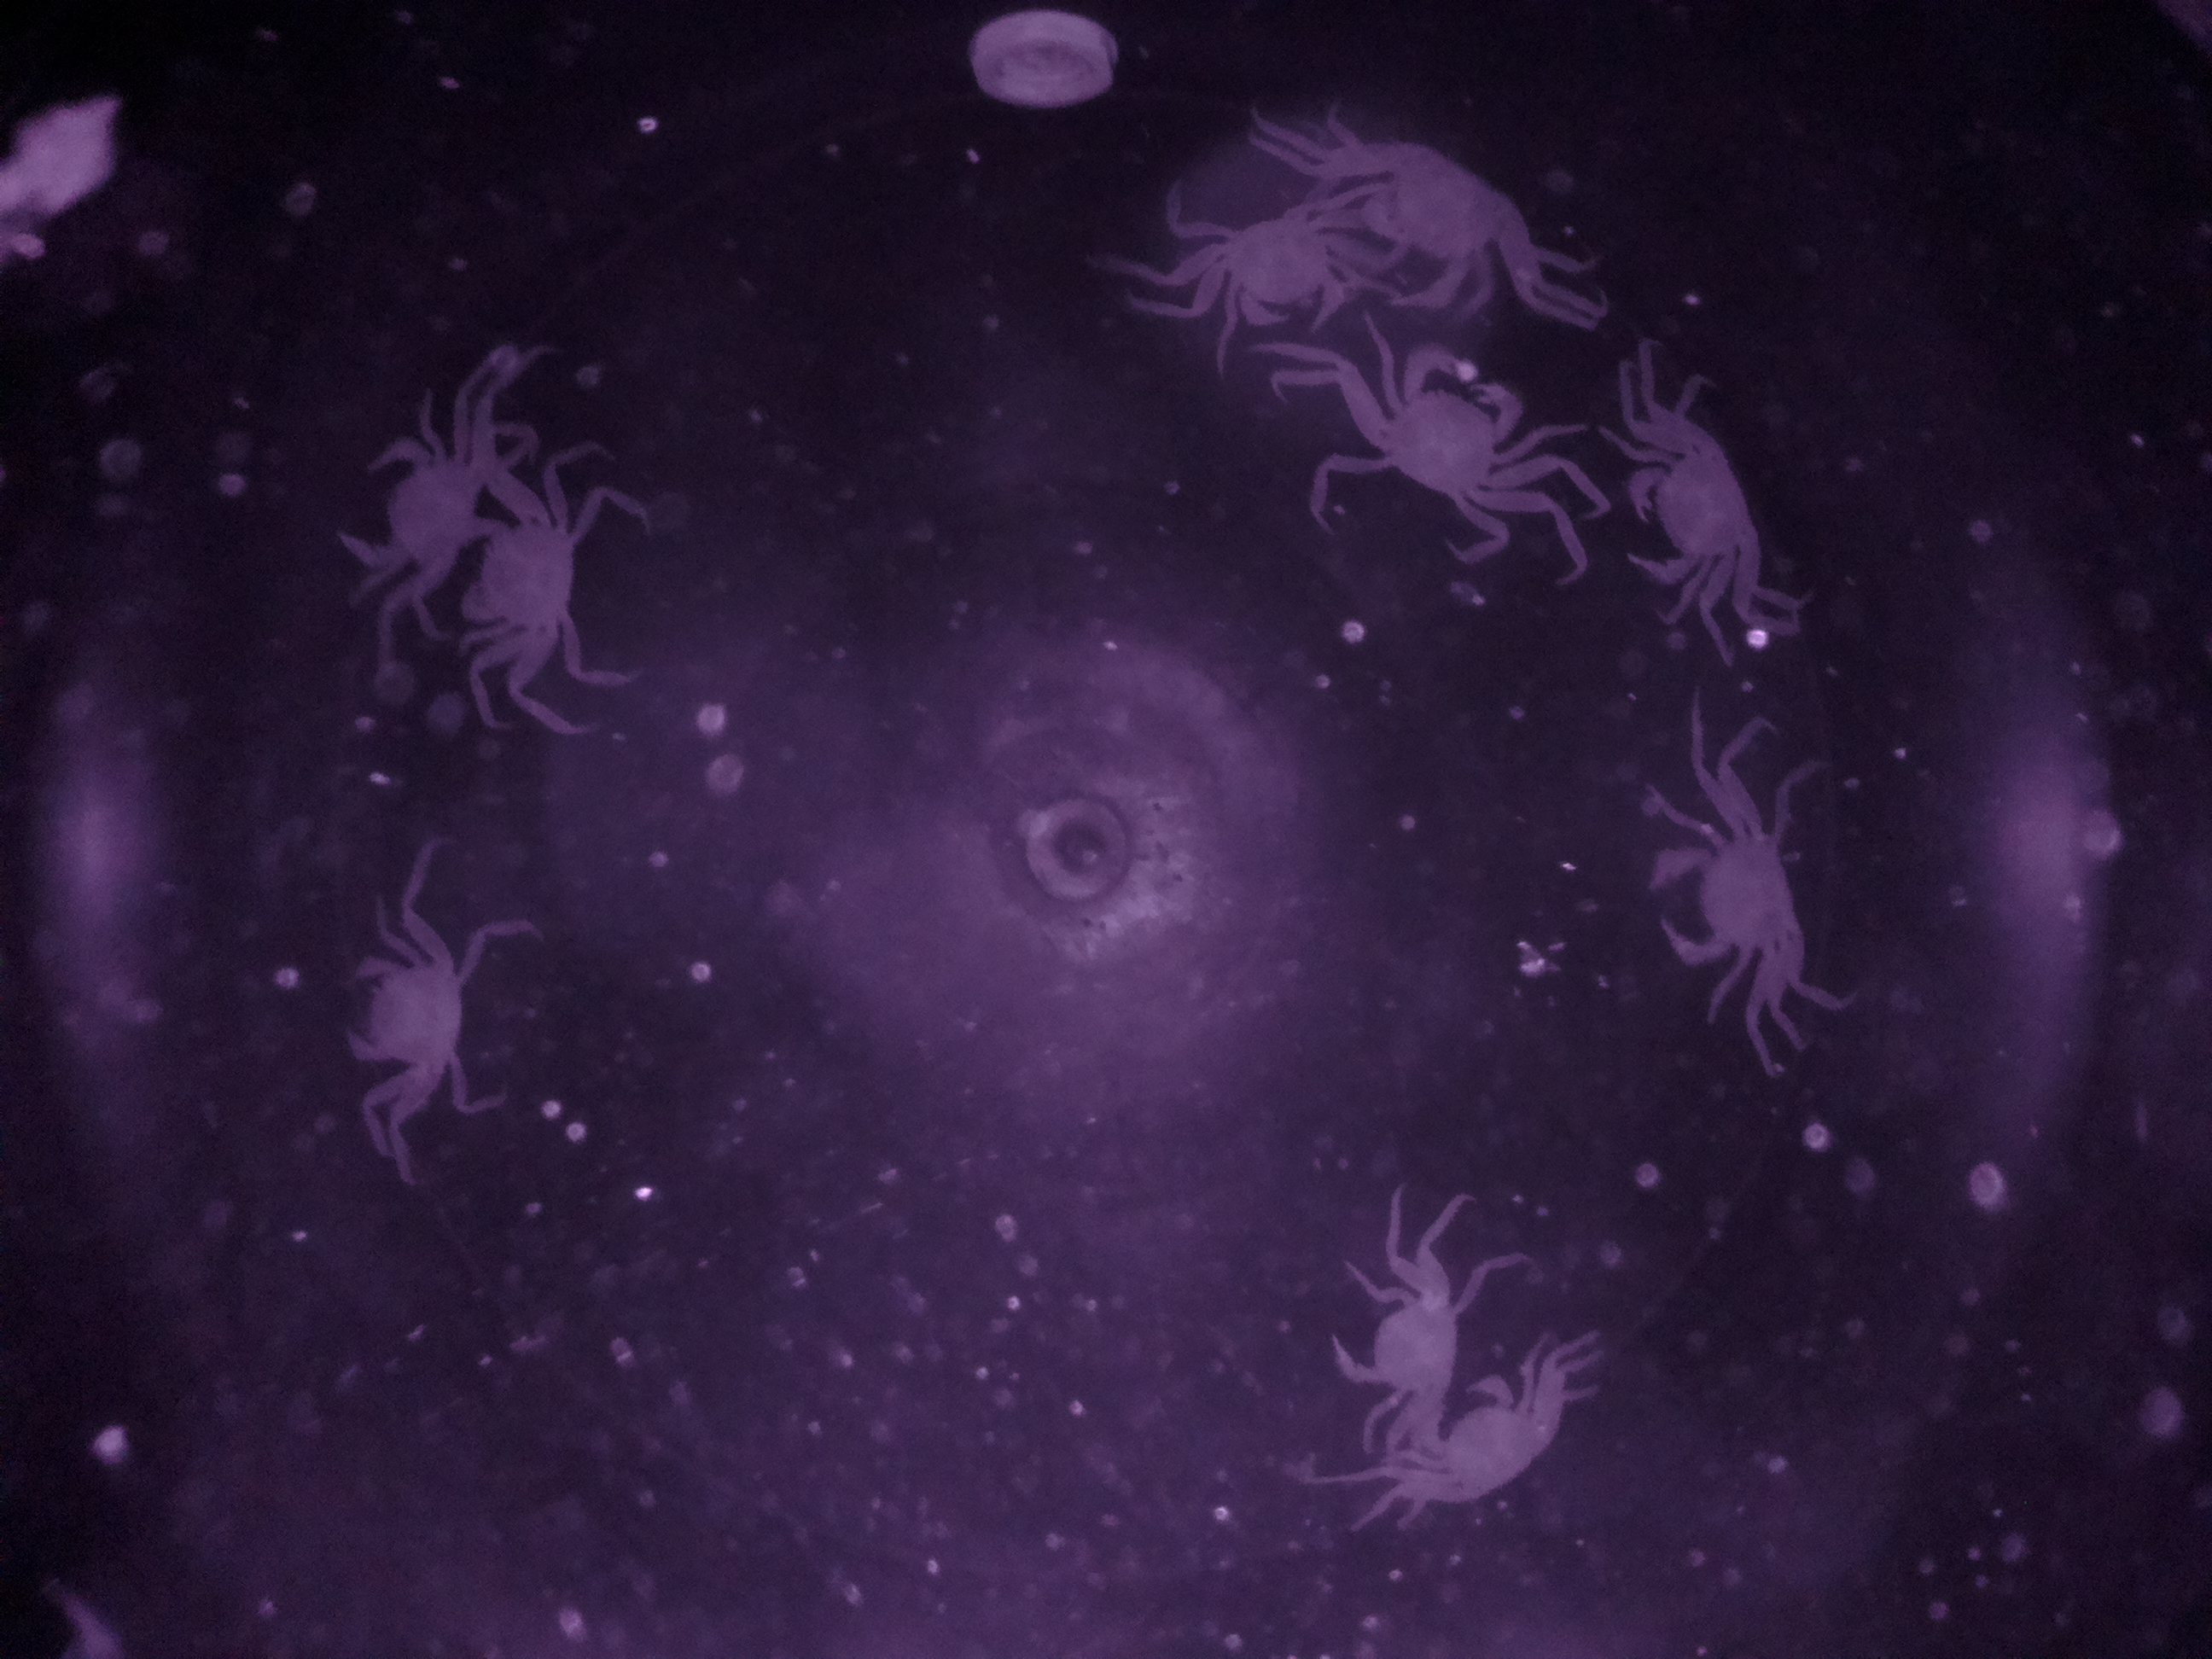Crab: (1632, 803, 1818, 1009), (1366, 331, 1547, 542), (1601, 408, 1775, 610), (1320, 1248, 1489, 1410), (334, 929, 502, 1091), (1183, 202, 1366, 349), (456, 483, 599, 655)
